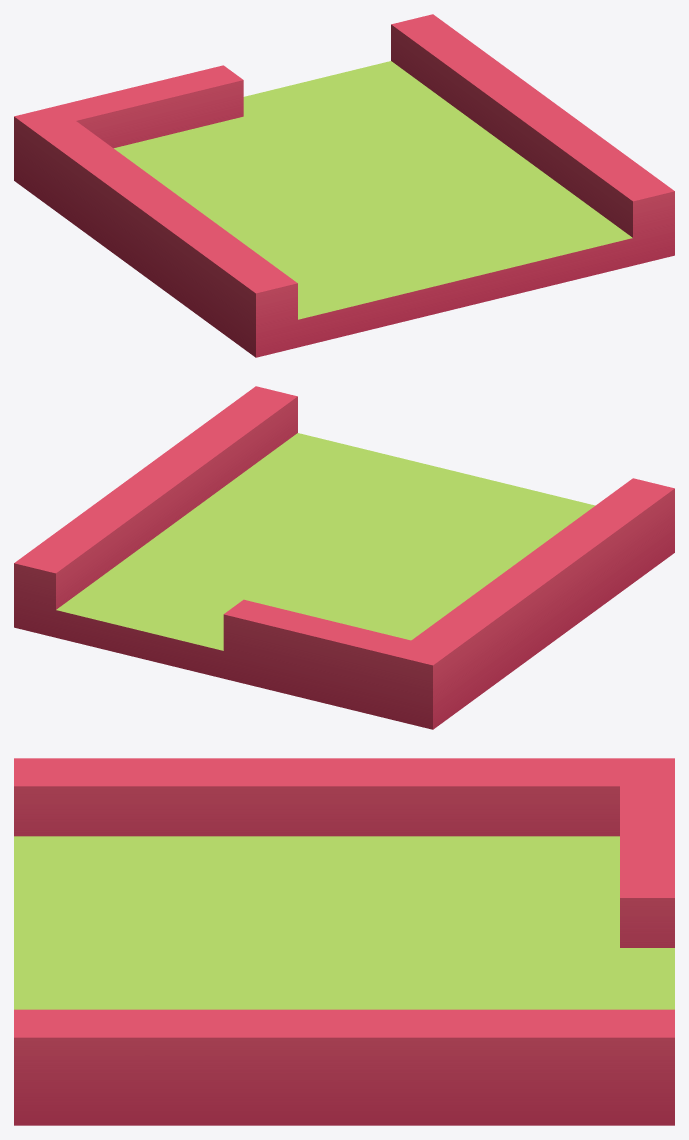
The model's file is wall-right.fbx.
3 renders of one model, top to bottom at view 1: azimuth 30°, elevation 25°; view 2: azimuth 150°, elevation 25°; view 3: azimuth 270°, elevation 25°, orthographic. The views are drawn at different scales.
Visible parts, largest first — view 1: wall_right; view 2: wall_right; view 3: wall_right.
Part boxes in pixels (<box>): wall_right: <box>14,14,674,357</box>; wall_right: <box>14,386,674,729</box>; wall_right: <box>14,758,674,1125</box>.
Size of the model in its own units: 99.99 by 14.67 by 99.99.
Materials: 1 (1 with a texture image).
